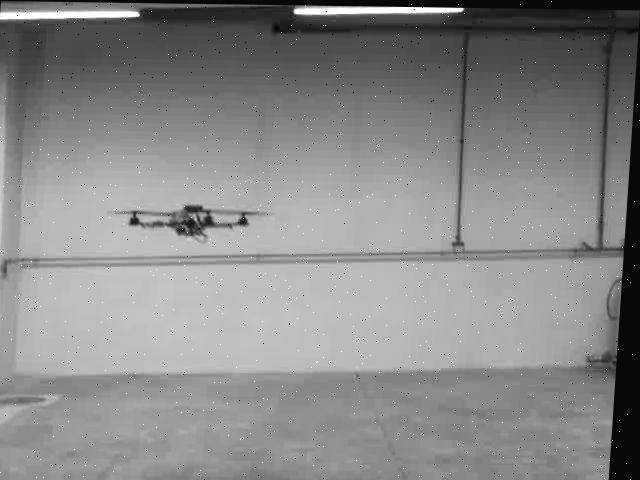drone: (119, 195, 258, 242)
